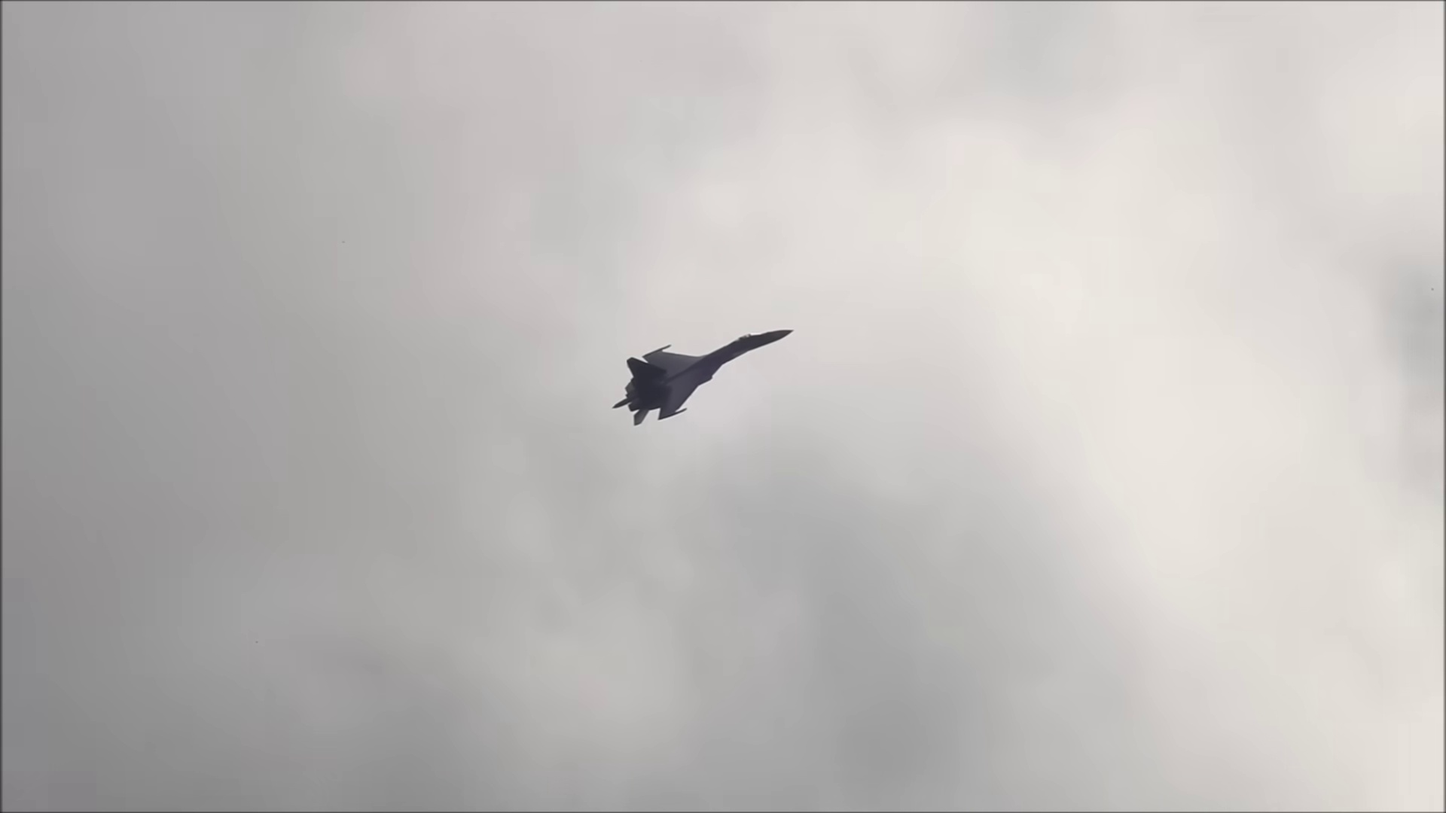Su35: (606, 317, 800, 431)
